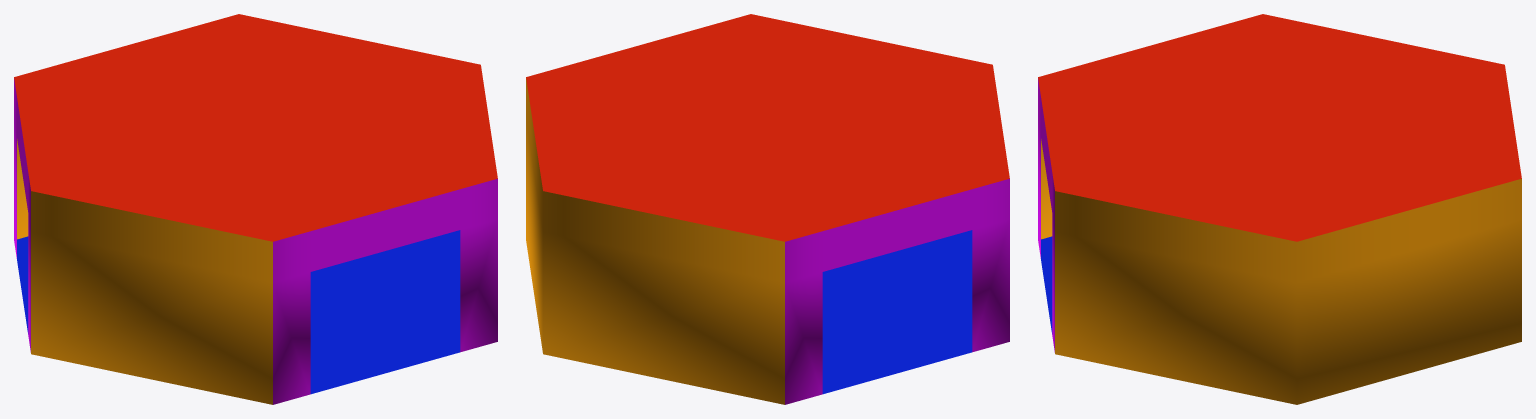
Rendered from NeutralRoom2.fbx.
The picture shows the model from 3 angles, left to right: view 1: azimuth 30°, elevation 25°; view 2: azimuth 150°, elevation 25°; view 3: azimuth 270°, elevation 25°; orthographic projection.
Visible parts, largest first — view 1: Museum_complete_Blockout:neutral_room_2; view 2: Museum_complete_Blockout:neutral_room_2; view 3: Museum_complete_Blockout:neutral_room_2.
Boxes of the visible parts, left/top/right/bottom form: Museum_complete_Blockout:neutral_room_2: left=14, top=14, right=497, bottom=404; Museum_complete_Blockout:neutral_room_2: left=526, top=14, right=1009, bottom=404; Museum_complete_Blockout:neutral_room_2: left=1038, top=14, right=1521, bottom=404.
Size of the model in its own units: 4108 by 1372 by 3688.
